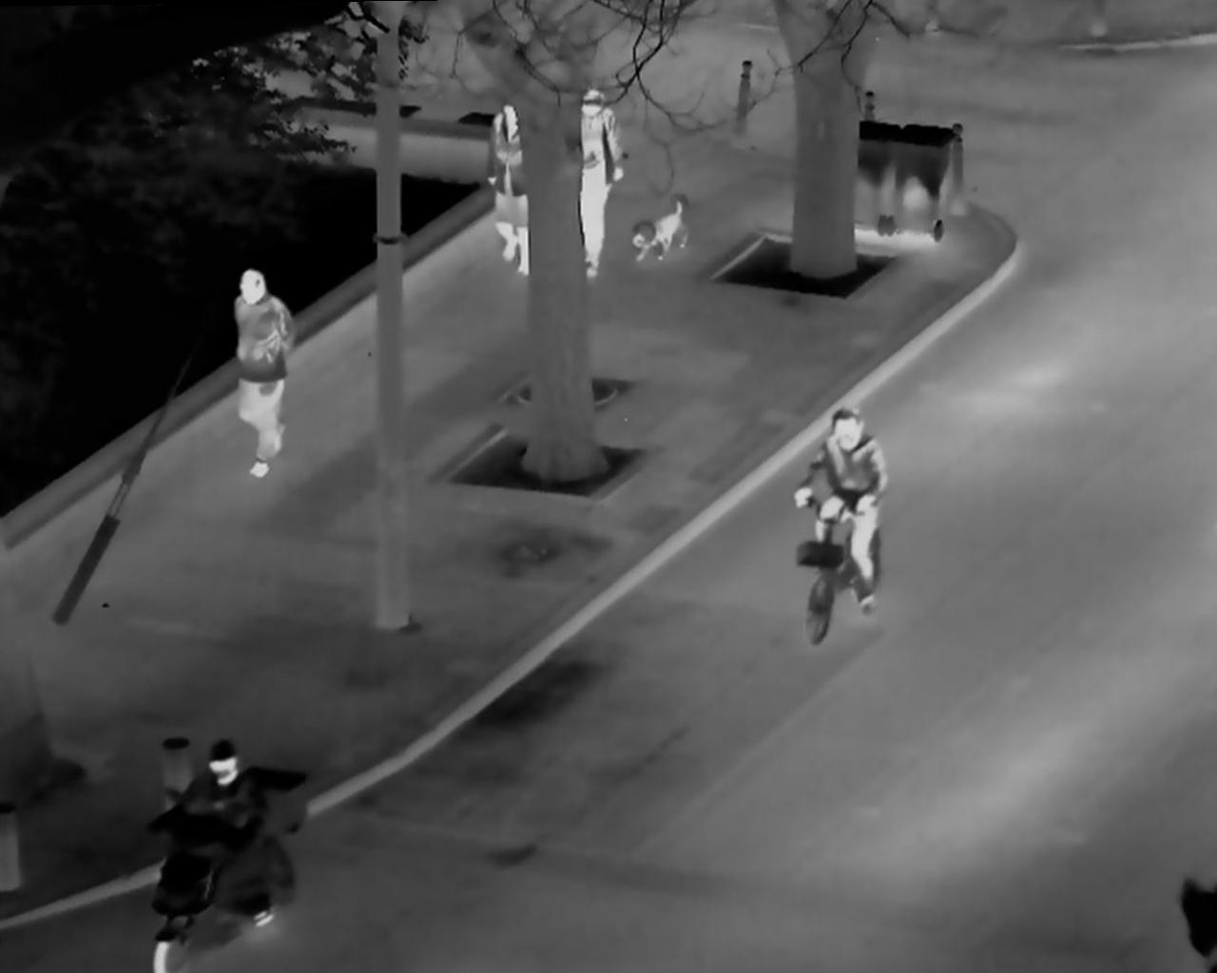person: (208, 241, 314, 514), (793, 399, 894, 641), (168, 720, 271, 929), (462, 70, 551, 267), (567, 78, 632, 286)
